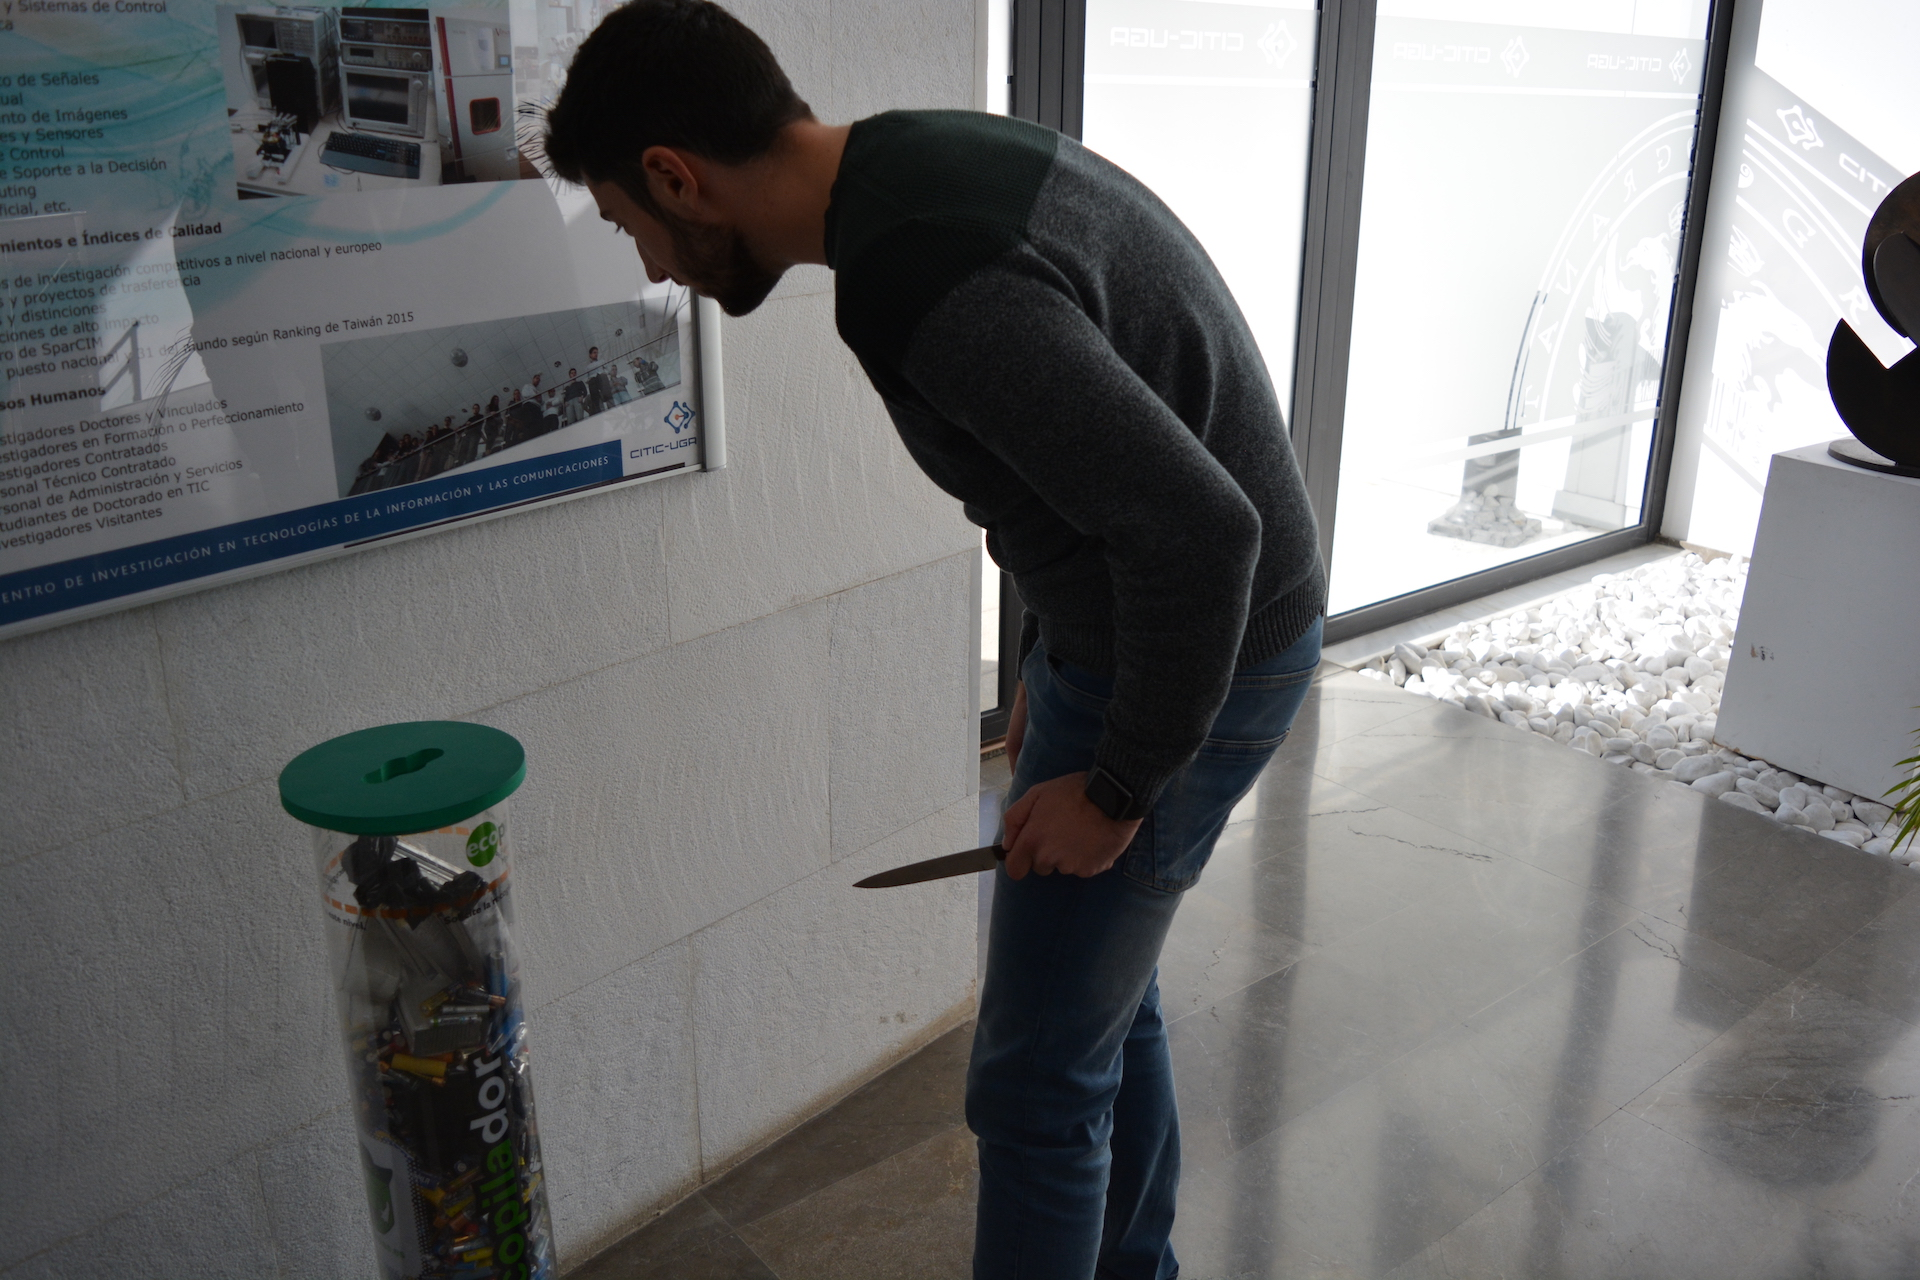knife: (843, 819, 1031, 896)
